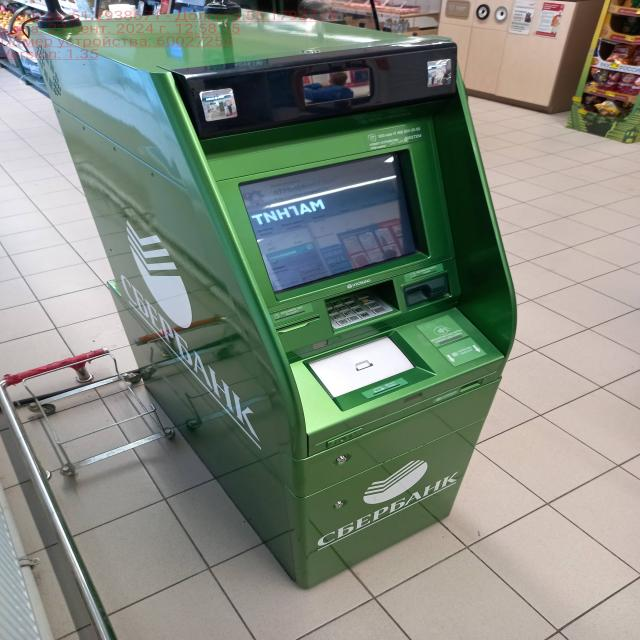bank: (22, 14, 524, 590)
